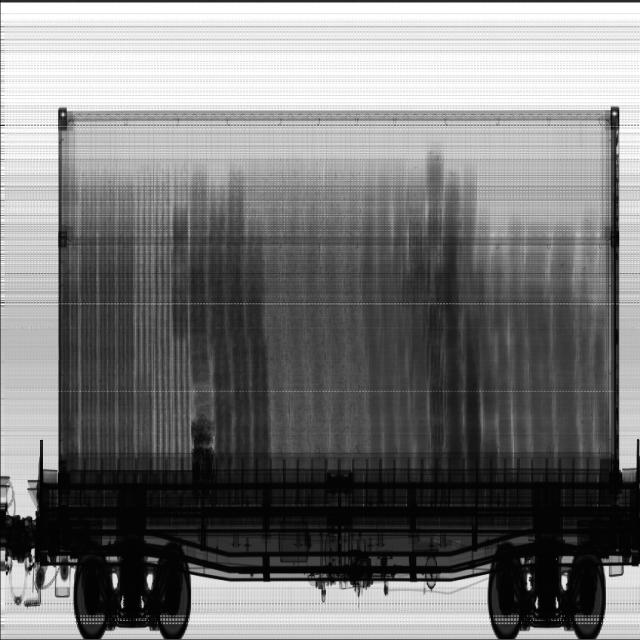clothes: (540, 315, 638, 509), (35, 318, 129, 506)
